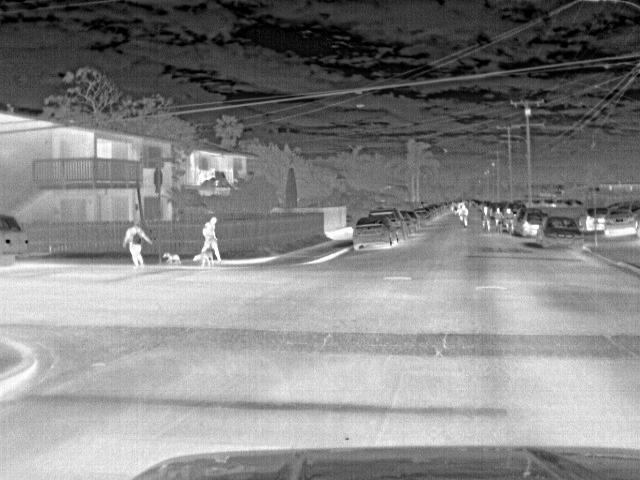car: (1, 214, 32, 268), (351, 218, 399, 252), (535, 216, 581, 250), (367, 207, 407, 242), (603, 207, 640, 239), (514, 208, 551, 236), (402, 211, 421, 231), (583, 206, 597, 232), (598, 206, 611, 234), (401, 212, 416, 236)
dog: (161, 250, 181, 266), (193, 253, 215, 267)
person: (121, 220, 155, 268), (200, 216, 224, 260), (480, 206, 493, 234), (492, 204, 504, 234), (456, 202, 469, 228)
